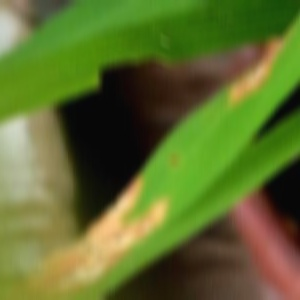Brown_Spot: (51, 150, 180, 287), (210, 37, 283, 110)
